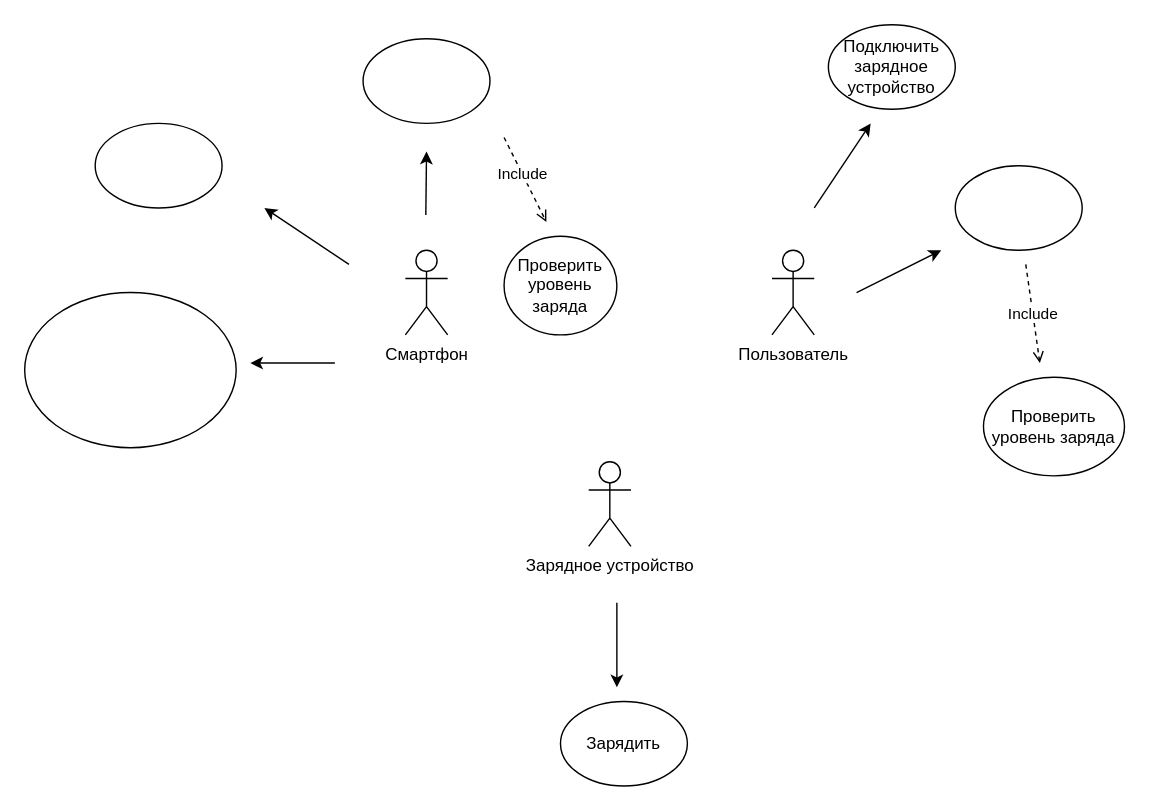
The diagram is 1149 pixels wide and 811 high, and some of its shapes have lost their labels. Here are the shapes that lost their labels. From the top down, the centre of each, then its label:
At point (426, 80): "Выключиться".
At point (158, 165): "Зарядится".
At point (1018, 207): "Отключить зарядное устройство".
At point (129, 369): "Проверить наличие функции быстрой зарядки у зарядного устройства".
